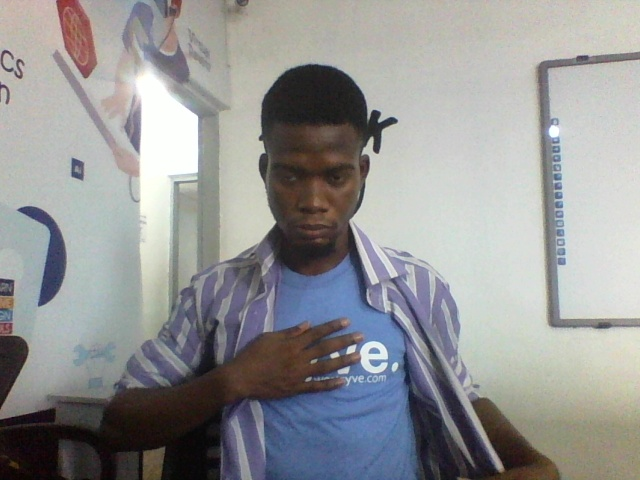please: (182, 317, 371, 431)
